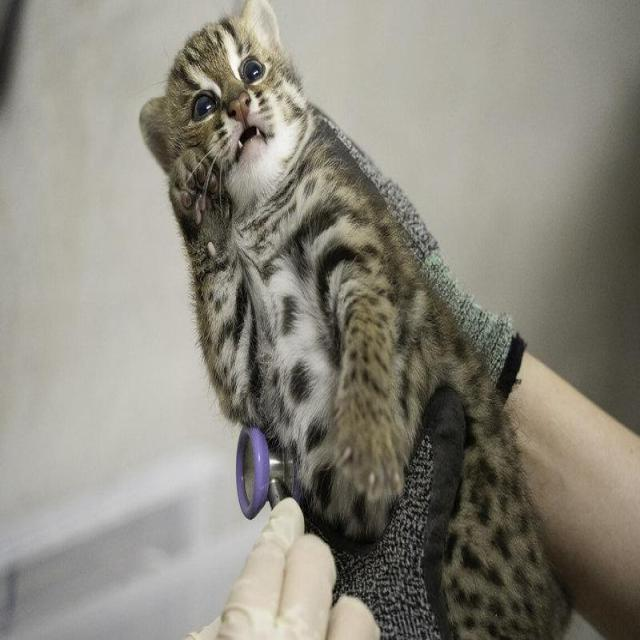leopard: (144, 0, 531, 528)
